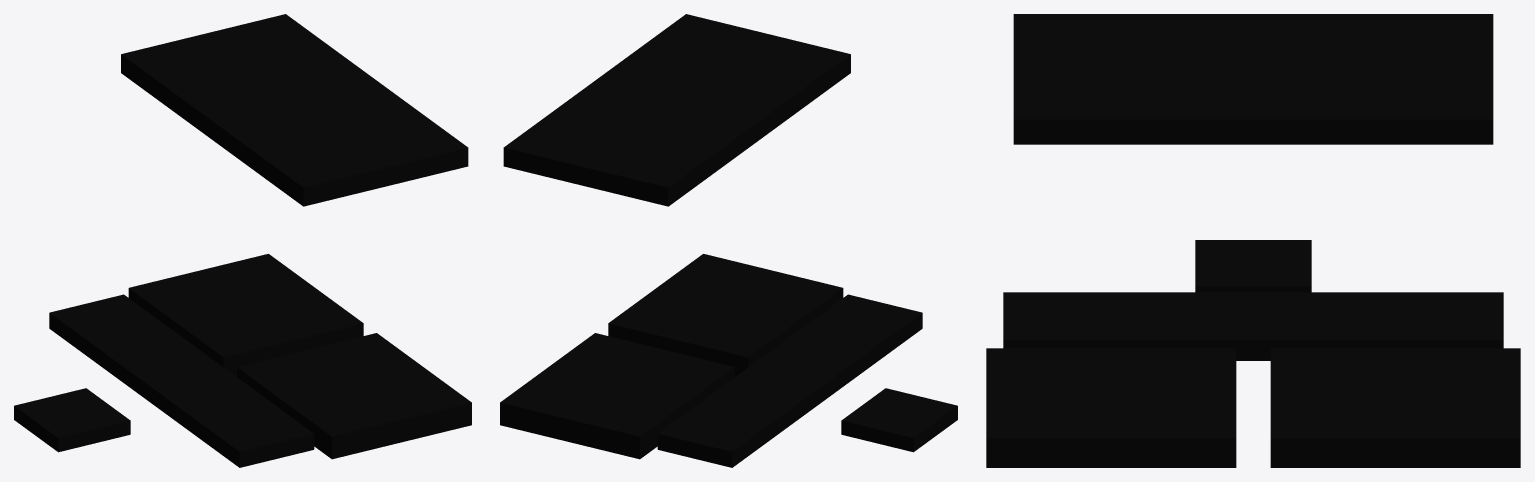
Rendered from bench_chestplate_4.obj.
The picture shows the model from 3 angles, left to right: view 1: azimuth 30°, elevation 25°; view 2: azimuth 150°, elevation 25°; view 3: azimuth 270°, elevation 25°; orthographic projection. The views are drawn at different scales.
Visible parts, largest first — view 1: geometry; view 2: geometry; view 3: geometry.
Boxes of the visible parts, left/top/right/bottom form: geometry: left=14, top=14, right=471, bottom=467; geometry: left=500, top=14, right=957, bottom=467; geometry: left=986, top=14, right=1520, bottom=467.
Bounding box in the file's own units: 0.3277 × 0.25 × 0.3385.
